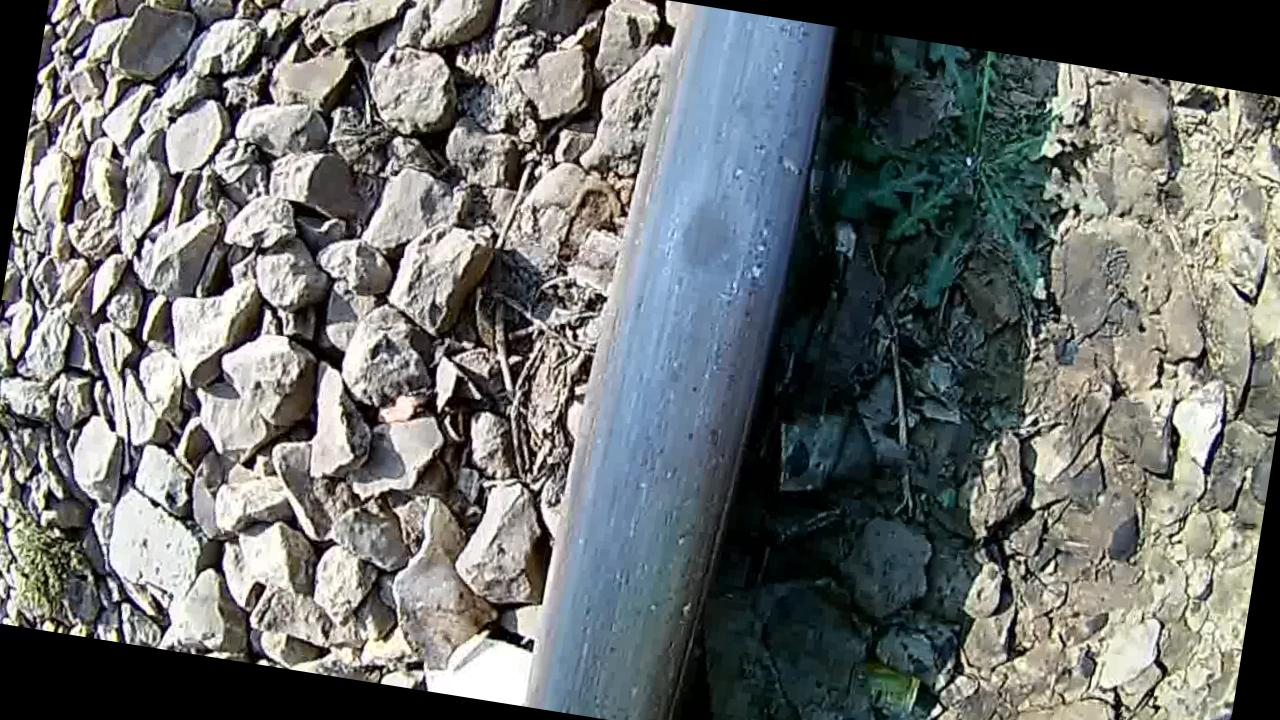bolt_missing: (611, 121, 826, 356)
